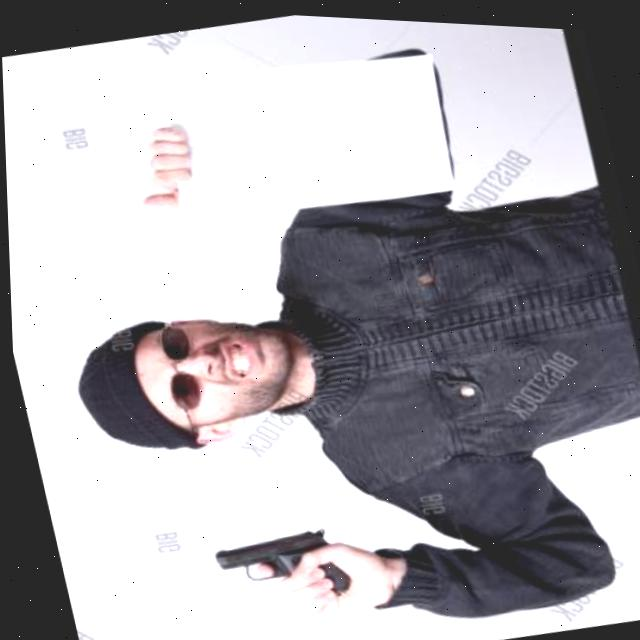pistol: (197, 517, 365, 607)
